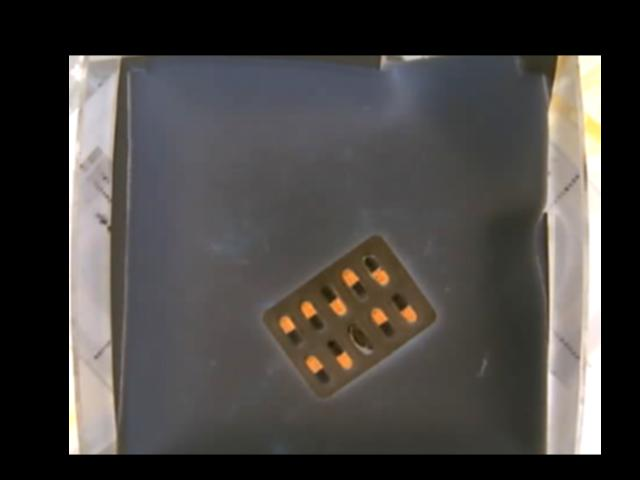Medicine: (261, 234, 436, 397)
